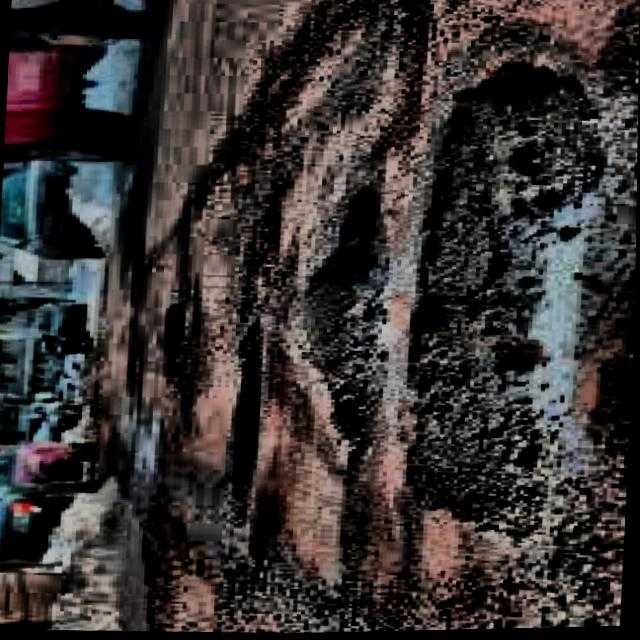pothole: (406, 64, 599, 519)
